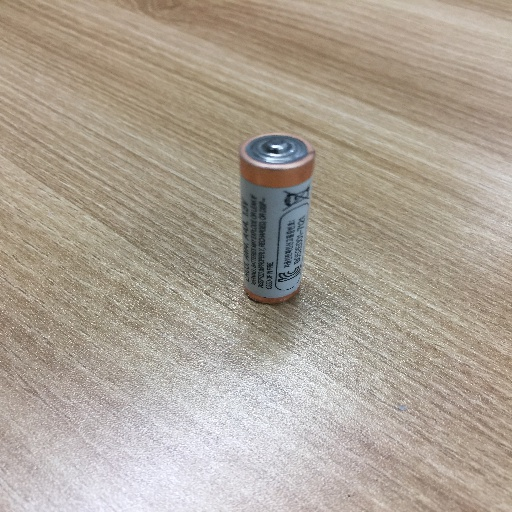Battery_0: (234, 117, 320, 318)
